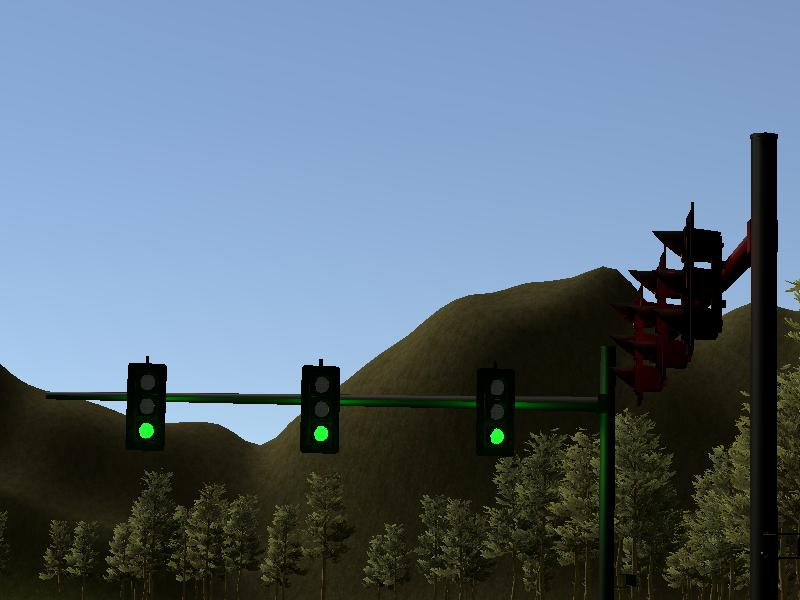Green: (127, 362, 164, 450), (302, 365, 338, 453), (475, 371, 512, 454)
